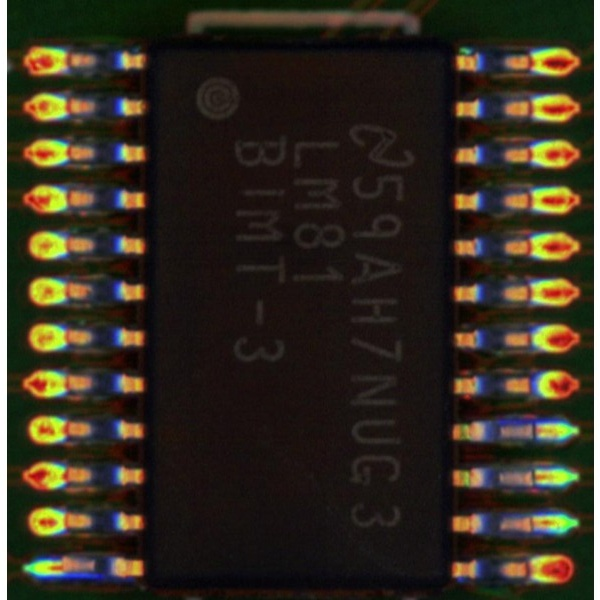Bad_podu: (520, 518, 555, 531), (522, 425, 549, 439), (522, 473, 551, 485), (46, 562, 74, 574), (516, 563, 538, 578)
